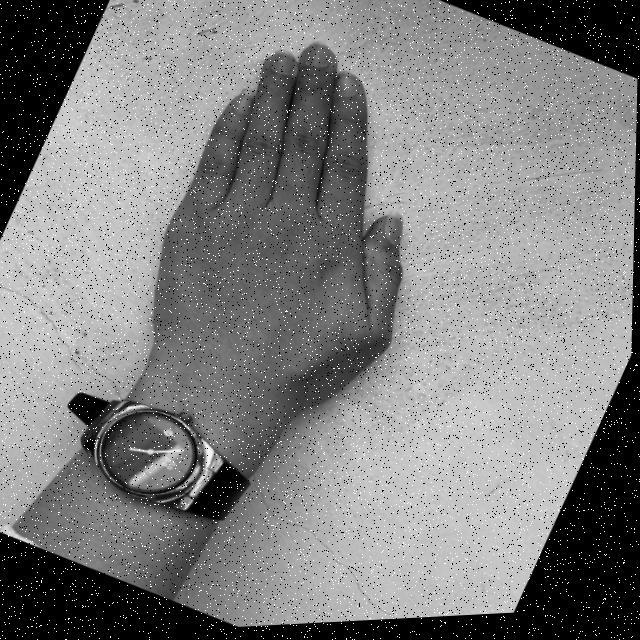no-gloves: (121, 7, 502, 429)
